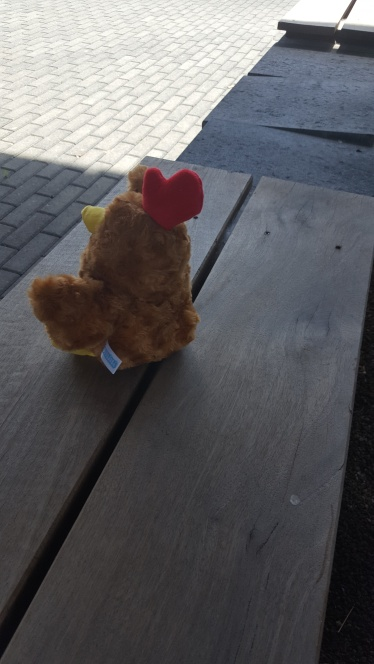chicken_right: (31, 166, 206, 373)
